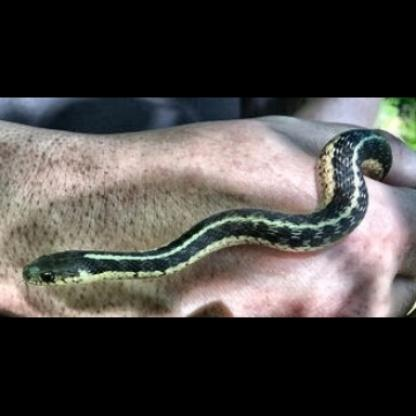Snake: (19, 126, 395, 290)
